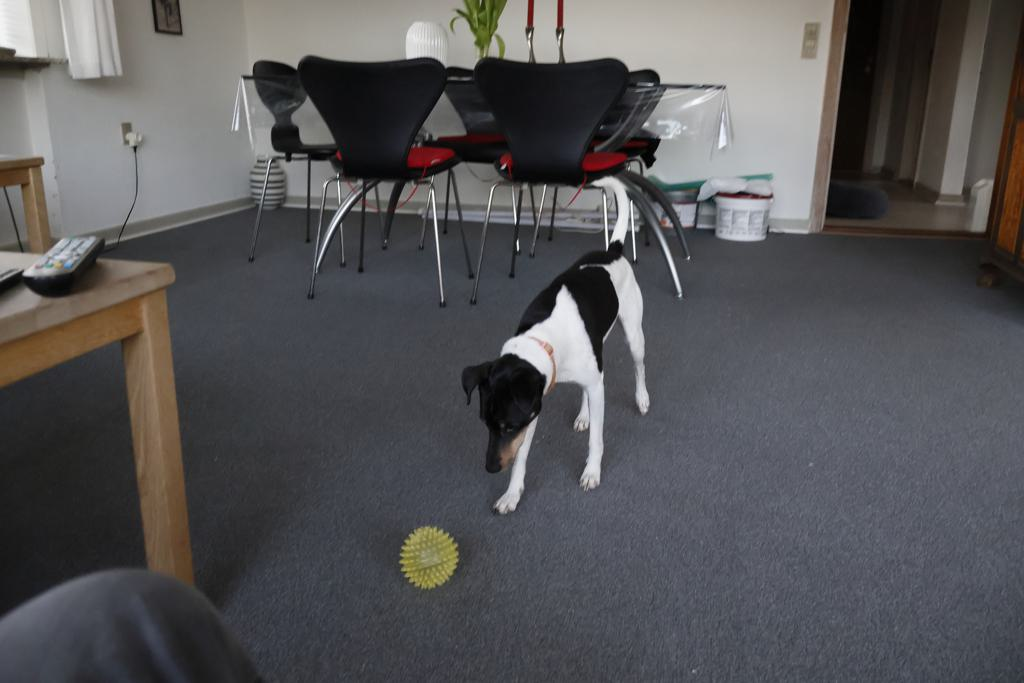Dog: (452, 169, 663, 522)
Humanoid: (0, 553, 281, 683)
